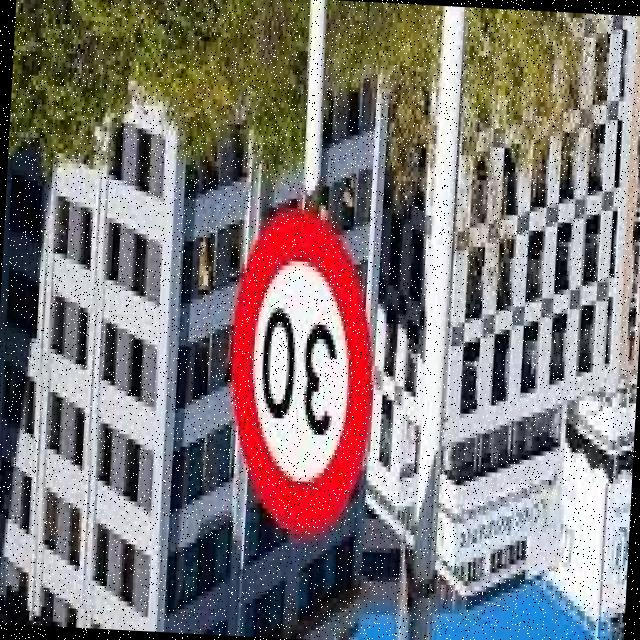speed_limit_30: (218, 204, 385, 542)
